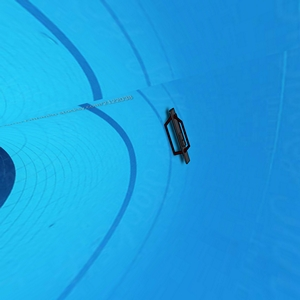submarine: (164, 110, 196, 165)
